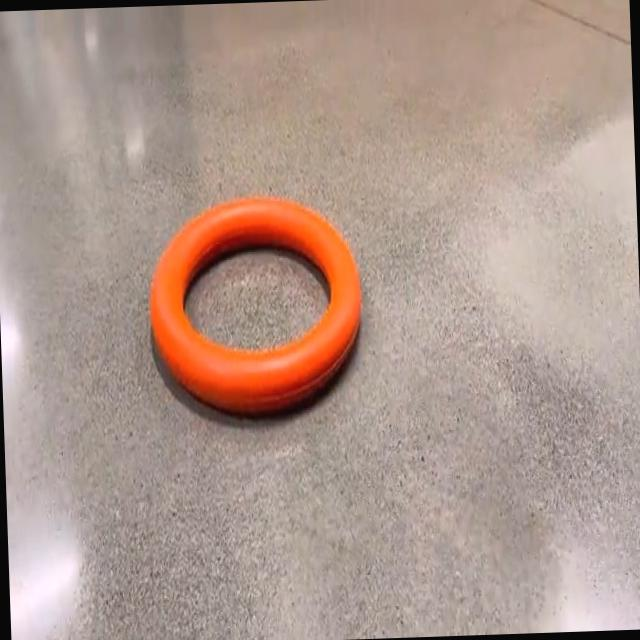note: (149, 198, 360, 412)
